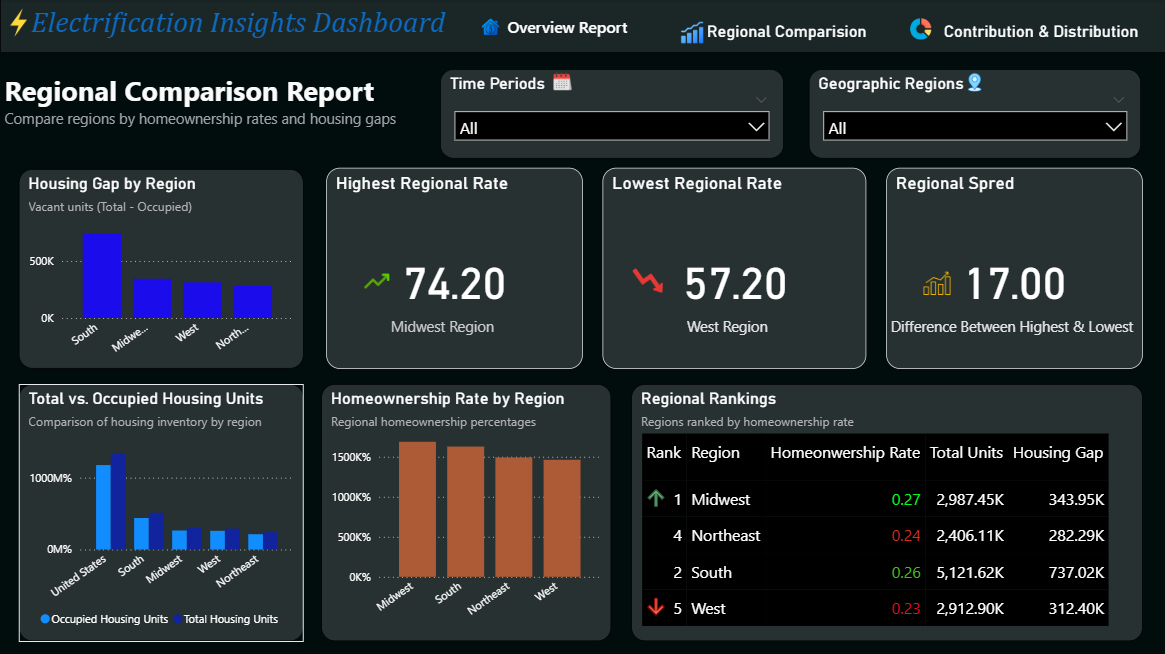

Layout of this report page (visuals, bound fields, positions):
{"tool":"powerbi","page":{"name":"Regional Comparision","canvas":[1280,720],"ordinal":1},"visuals":[{"type":"slicer","title":"           Time Periods","fields":{"Values":["Time_Periods.per_name"]},"box":[482.5,76.2,377.5,98.8],"z":0},{"type":"slicer","title":"Geographic Regions","fields":{"Values":["Geo_Levels.geo_desc"]},"box":[887.5,76.2,365,98.8],"z":1000},{"type":"textbox","box":[0,0,1280,59.1],"z":2000},{"type":"image","box":[0,4.8,41,41],"z":3000},{"type":"textbox","box":[0,75.5,470.7,100.2],"z":4000},{"type":"clusteredColumnChart","title":"Total vs. Occupied Housing Units","fields":{"Category":["Geo_Levels.geo_desc"],"Y":["Sum(Whole_Data.val)"],"Series":["Data_Types.dt_desc"]},"box":[20.6,422.6,312.9,282.7],"z":5000},{"type":"columnChart","title":"Homeownership Rate by Region","fields":{"Category":["Geo_Levels.geo_desc"],"Y":["Sum(Whole_Data.val)"],"Series":["Data_Types.dt_desc"]},"box":[352.7,422.6,318.4,282.7],"z":6000},{"type":"tableEx","title":"Regional Rankings","fields":{"Values":["Whole_Data.Regional_HOR_Rank","Geo_Levels.geo_desc","Whole_Data.Regional_HOR","Whole_Data.Regional_Total_Units","Whole_Data.Regional_Housing_Gap"]},"box":[693,422.6,561.2,282.7],"z":7000},{"type":"columnChart","title":"Housing Gap by Region","fields":{"Category":["Geo_Levels.geo_desc"],"Y":["Whole_Data.Housing_Gap"]},"box":[20.6,186.6,312.9,219.6],"z":8000},{"type":"actionButton","box":[511.8,5.5,222.3,49.4],"z":9000},{"type":"image","box":[596,76,43.4,30.2],"z":10000},{"type":"image","box":[1048.4,76,43.4,32.6],"z":11000},{"type":"card","title":"Highest Regional Rate","fields":{"Values":["Whole_Data.Highest_Regional_Rate"]},"box":[358.1,185.2,281.3,220.9],"z":12000},{"type":"textbox","box":[424,343.1,199,34.3],"z":13000},{"type":"image","box":[392.5,286.8,42.5,45.3],"z":14000},{"type":"card","title":"Regional Spred","fields":{"Values":["Whole_Data.Rate_Difference"]},"box":[972.9,185.2,281.3,220.9],"z":15000},{"type":"card","title":"Lowest Regional Rate","fields":{"Values":["Whole_Data.Lowest_Regional_Rate"]},"box":[661.4,185.2,289.5,220.9],"z":16000},{"type":"textbox","box":[749.2,343.1,161.9,38.4],"z":17000},{"type":"image","box":[661.4,286.8,98.8,45.3],"z":18000},{"type":"textbox","box":[972.9,343.1,299.1,38.4],"z":19000},{"type":"image","box":[996.2,292.3,64.5,39.8],"z":20000},{"type":"actionButton","title":"Regional Comparision","box":[742.4,24.7,242.9,30.2],"z":21000},{"type":"actionButton","title":"Contribution & Distribution","box":[1005.6,24.7,274.4,30.2],"z":22000},{"type":"image","box":[524.2,13.7,28.8,32.9],"z":23000},{"type":"image","box":[993.5,16.5,34.3,32.9],"z":24000},{"type":"image","box":[742.4,19.2,35.7,35.7],"z":25000}]}

Visuals, with their boxes in screenshot pixels (x1, y1, x2, y2), scaled from the page's 1280x720 canvas onto the 1165x654 screenshot:
"           Time Periods" slicer: pyautogui.locateOnScreen(439, 69, 783, 159)
"Geographic Regions" slicer: pyautogui.locateOnScreen(808, 69, 1140, 159)
textbox: pyautogui.locateOnScreen(0, 0, 1164, 54)
image: pyautogui.locateOnScreen(0, 4, 37, 42)
textbox: pyautogui.locateOnScreen(0, 69, 428, 160)
"Total vs. Occupied Housing Units" clusteredColumnChart: pyautogui.locateOnScreen(19, 384, 304, 641)
"Homeownership Rate by Region" columnChart: pyautogui.locateOnScreen(321, 384, 611, 641)
"Regional Rankings" tableEx: pyautogui.locateOnScreen(631, 384, 1142, 641)
"Housing Gap by Region" columnChart: pyautogui.locateOnScreen(19, 169, 304, 369)
actionButton: pyautogui.locateOnScreen(466, 5, 668, 50)
image: pyautogui.locateOnScreen(542, 69, 582, 96)
image: pyautogui.locateOnScreen(954, 69, 994, 99)
"Highest Regional Rate" card: pyautogui.locateOnScreen(326, 168, 582, 369)
textbox: pyautogui.locateOnScreen(386, 312, 567, 343)
image: pyautogui.locateOnScreen(357, 261, 396, 302)
"Regional Spred" card: pyautogui.locateOnScreen(885, 168, 1142, 369)
"Lowest Regional Rate" card: pyautogui.locateOnScreen(602, 168, 865, 369)
textbox: pyautogui.locateOnScreen(682, 312, 829, 347)
image: pyautogui.locateOnScreen(602, 261, 692, 302)
textbox: pyautogui.locateOnScreen(885, 312, 1158, 347)
image: pyautogui.locateOnScreen(907, 266, 965, 302)
"Regional Comparision" actionButton: pyautogui.locateOnScreen(676, 22, 897, 50)
"Contribution & Distribution" actionButton: pyautogui.locateOnScreen(915, 22, 1164, 50)
image: pyautogui.locateOnScreen(477, 12, 503, 42)
image: pyautogui.locateOnScreen(904, 15, 935, 45)
image: pyautogui.locateOnScreen(676, 17, 708, 50)
